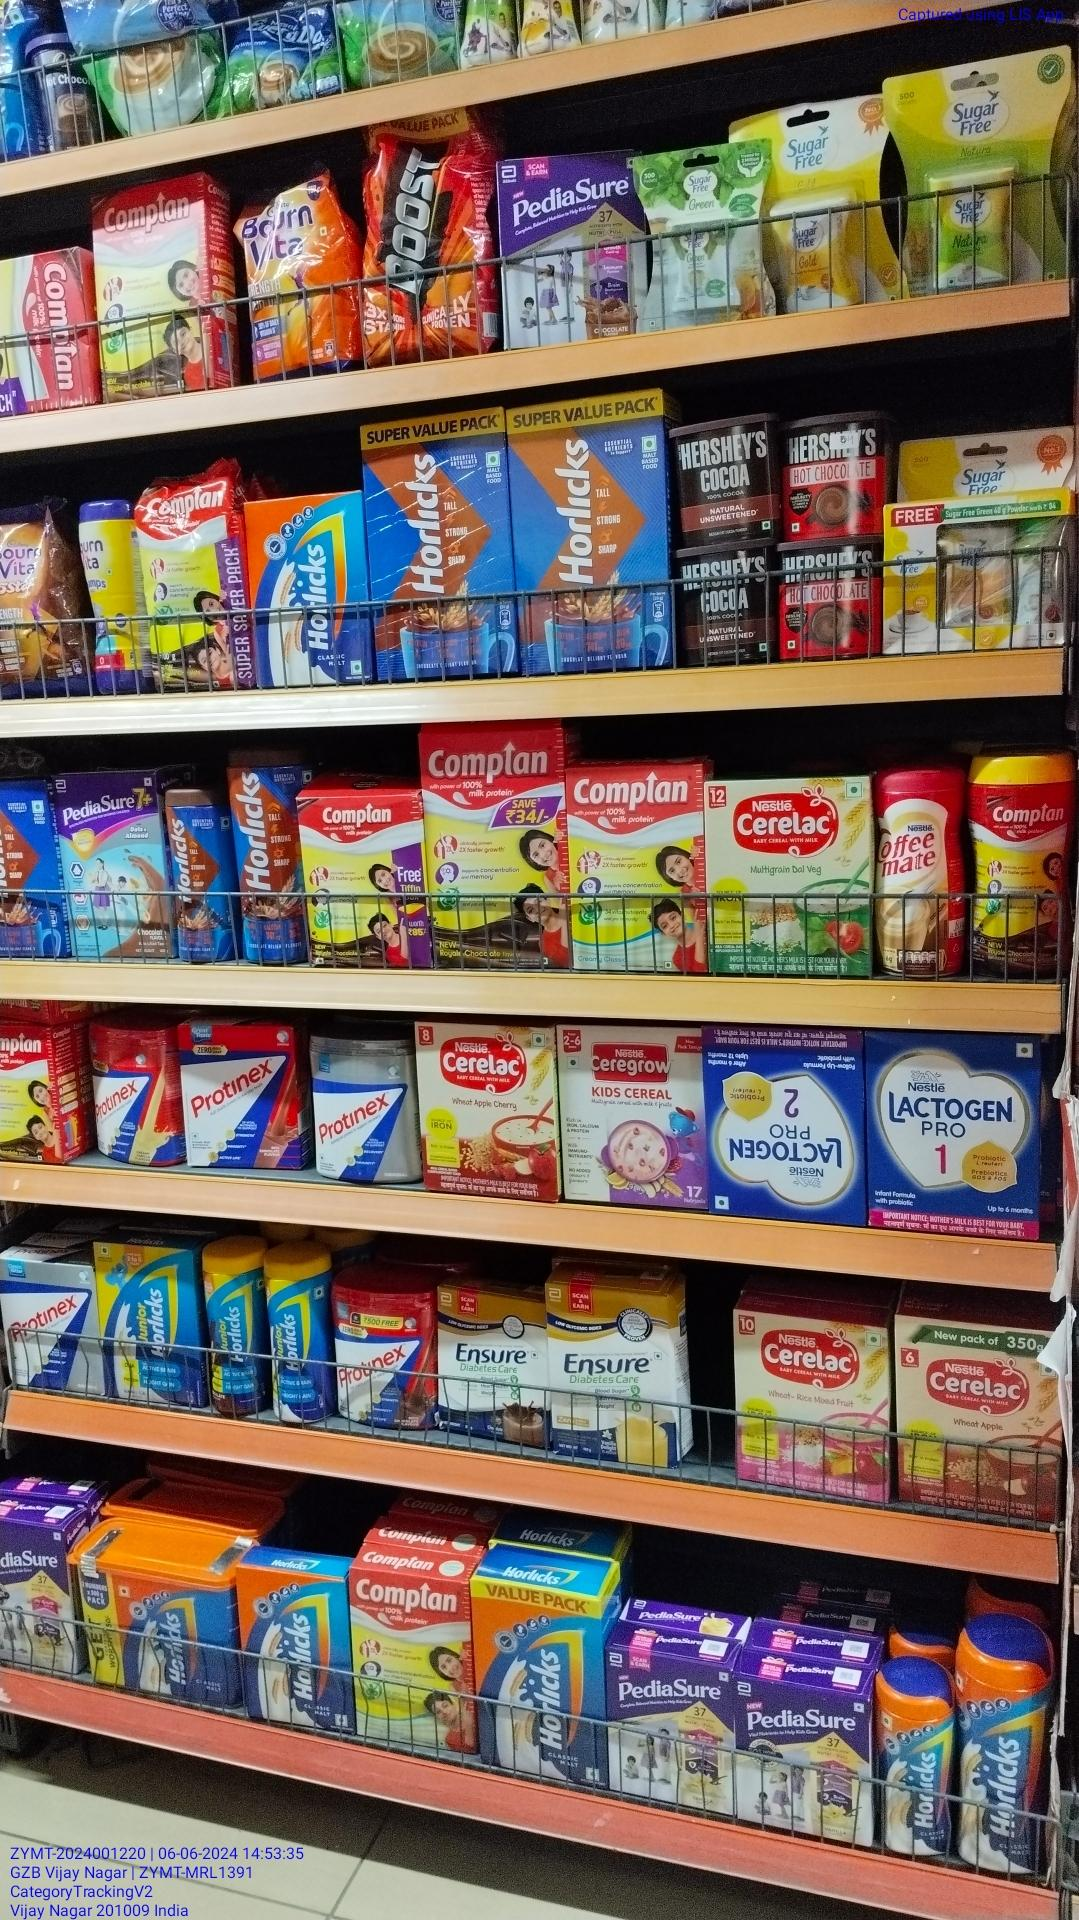COMPLAN_CHOCOLATE_1_KG_PACK: (426, 725, 565, 971)
COMPLAN_CHOCOLATE_200_GMS_PACK: (347, 1567, 472, 1759)
COMPLAN_CHOCOLATE_500_GMS_JAR: (963, 756, 1075, 984)
COMPLAN_CHOCOLATE_500_GMS_PACK: (302, 793, 421, 975)
COMPLAN_CREAMY_CLASSIC_500_G_PACK: (569, 765, 708, 973)
HORLICK_CHOCOLATE_1_KG_JAR: (227, 746, 303, 964)
HORLICK_CHOCOLATE_500_G_JAR: (166, 781, 226, 964)
HORLICK_CLASSIC_MALT_200_G_JAR: (876, 1650, 950, 1853)
HORLICK_CLASSIC_MALT_500_G_JAR: (956, 1607, 1053, 1876)
